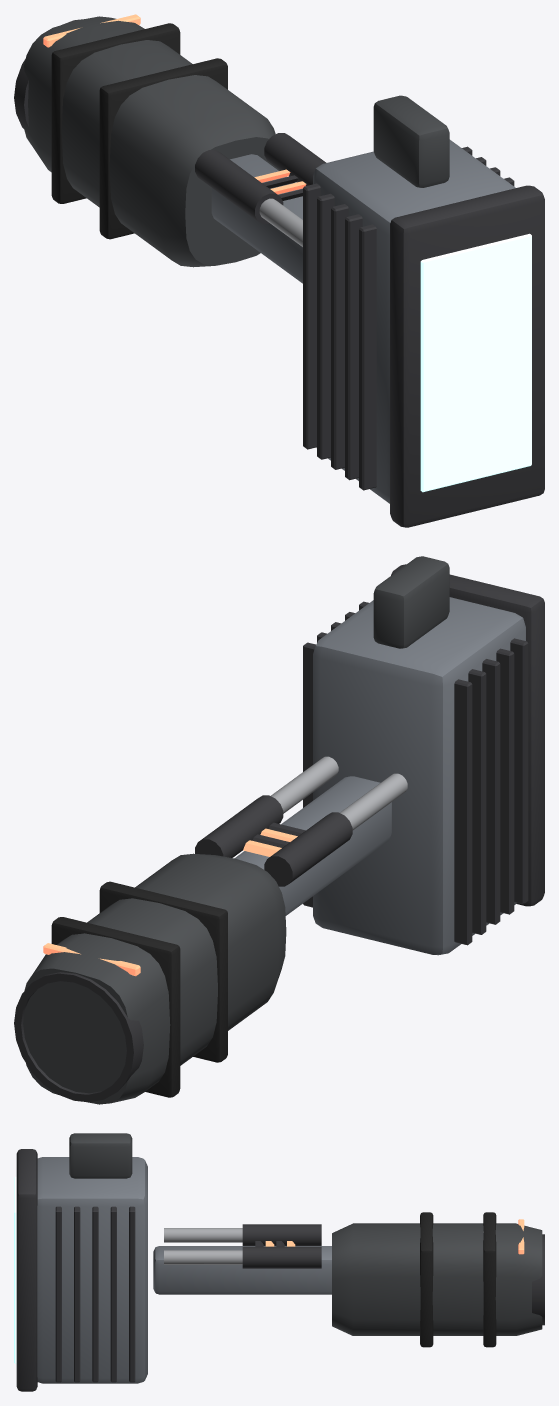
File: hammer.glb
3 views of the same model, one above another, from view 1: azimuth 30°, elevation 25°; view 2: azimuth 150°, elevation 25°; view 3: azimuth 270°, elevation 25° (orthographic). The views are drawn at different scales.
Parts seen in each view (by area): view 1: Body; view 2: Body; view 3: Body.
Part boxes in pixels (bbox=[...]): Body: bbox=[14, 14, 544, 527]; Body: bbox=[14, 556, 544, 1104]; Body: bbox=[14, 1133, 544, 1391].
Size of the model in its own units: 0.24 by 0.49 by 1.01.
